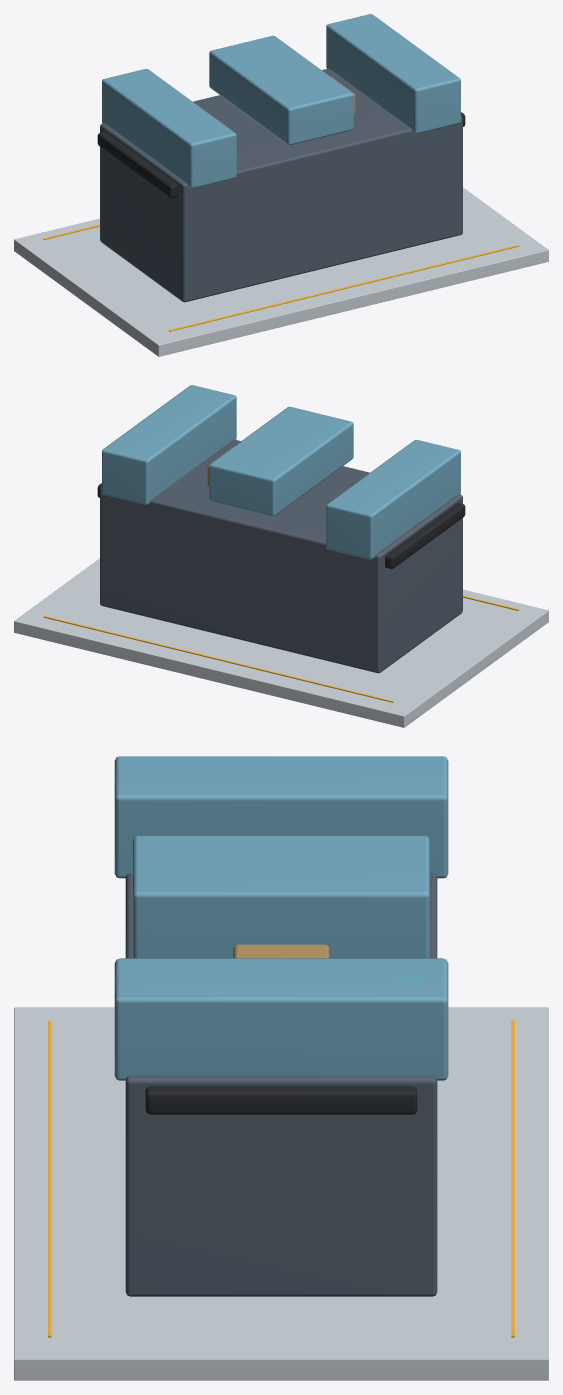
3 renders of one model, top to bottom at view 1: azimuth 30°, elevation 25°; view 2: azimuth 150°, elevation 25°; view 3: azimuth 270°, elevation 25°, orthographic. The views are drawn at different scales.
Parts seen in each view (by area): view 1: Industrial frame, Ground plane, Forming and sealing head, Equipment housing, Equipment housing.001, Conveying surface, Concept clearance guide; view 2: Industrial frame, Ground plane, Forming and sealing head, Equipment housing, Equipment housing.001, Conveying surface, Concept clearance guide.001; view 3: Ground plane, Industrial frame, Equipment housing.001, Forming and sealing head, Equipment housing, Conveying surface, Illustrative carton, Concept clearance guide, Concept clearance guide.001.
Boxes of the visible parts, x1=… form: Industrial frame: x1=100, y1=68, x2=462, y2=302; Ground plane: x1=14, y1=187, x2=548, y2=356; Forming and sealing head: x1=209, y1=35, x2=353, y2=145; Equipment housing: x1=102, y1=68, x2=236, y2=188; Equipment housing.001: x1=326, y1=14, x2=460, y2=133; Conveying surface: x1=97, y1=112, x2=465, y2=197; Concept clearance guide: x1=169, y1=245, x2=519, y2=331; Industrial frame: x1=100, y1=439, x2=462, y2=673; Ground plane: x1=14, y1=558, x2=548, y2=727; Forming and sealing head: x1=209, y1=406, x2=353, y2=516; Equipment housing: x1=326, y1=439, x2=460, y2=559; Equipment housing.001: x1=102, y1=385, x2=236, y2=504; Conveying surface: x1=97, y1=483, x2=465, y2=568; Concept clearance guide.001: x1=43, y1=616, x2=393, y2=702; Ground plane: x1=14, y1=1007, x2=548, y2=1380; Industrial frame: x1=125, y1=873, x2=437, y2=1296; Equipment housing.001: x1=114, y1=958, x2=448, y2=1080; Forming and sealing head: x1=133, y1=836, x2=429, y2=958; Equipment housing: x1=114, y1=756, x2=448, y2=878; Conveying surface: x1=145, y1=1086, x2=417, y2=1114; Illustrative carton: x1=233, y1=944, x2=329, y2=958; Concept clearance guide: x1=48, y1=1020, x2=51, y2=1337; Concept clearance guide.001: x1=511, y1=1020, x2=514, y2=1337.
Bounding box in the file's own units: 4.14 × 1.87 × 2.66.
